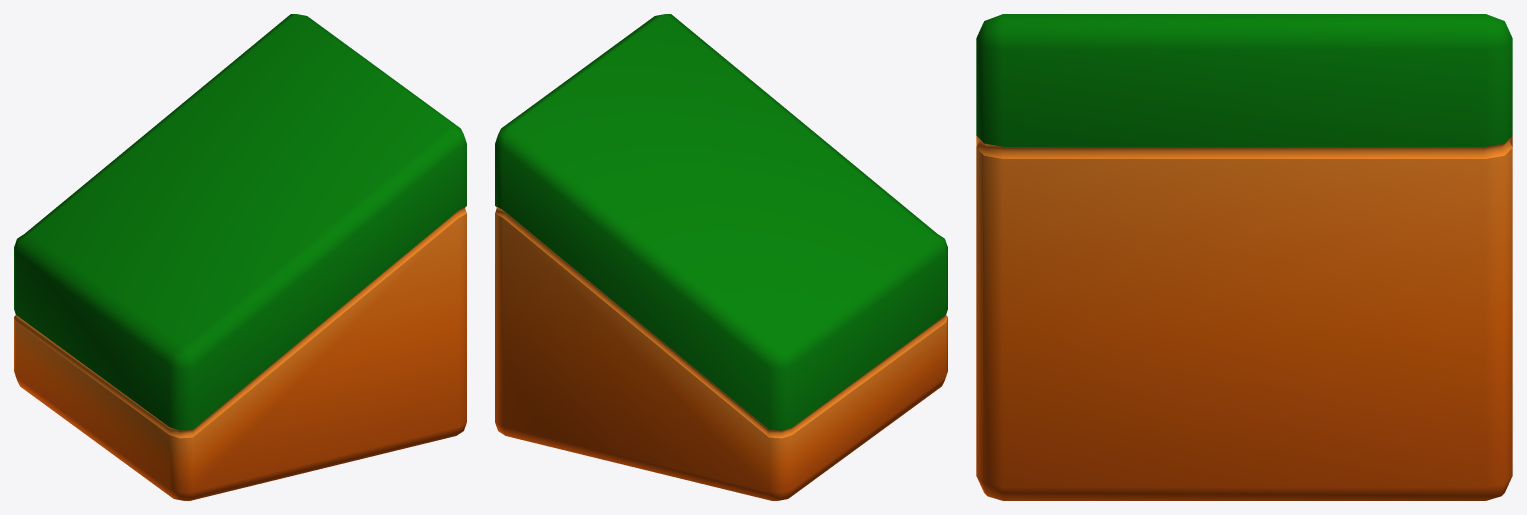
File: 3D_Tile_Ground_Slope_01v02.fbx
3 views of the same model, side by side, from view 1: azimuth 30°, elevation 25°; view 2: azimuth 150°, elevation 25°; view 3: azimuth 270°, elevation 25° (orthographic). The views are drawn at different scales.
Visible parts, largest first — view 1: 3D_Tile_Ground_Slope_01v02; view 2: 3D_Tile_Ground_Slope_01v02; view 3: 3D_Tile_Ground_Slope_01v02.
Part boxes in pixels (x1,y1,x2,y2): 3D_Tile_Ground_Slope_01v02: [14, 14, 466, 500]; 3D_Tile_Ground_Slope_01v02: [495, 14, 947, 500]; 3D_Tile_Ground_Slope_01v02: [976, 14, 1512, 500].
Size of the model in its own units: 200 by 200 by 200.
